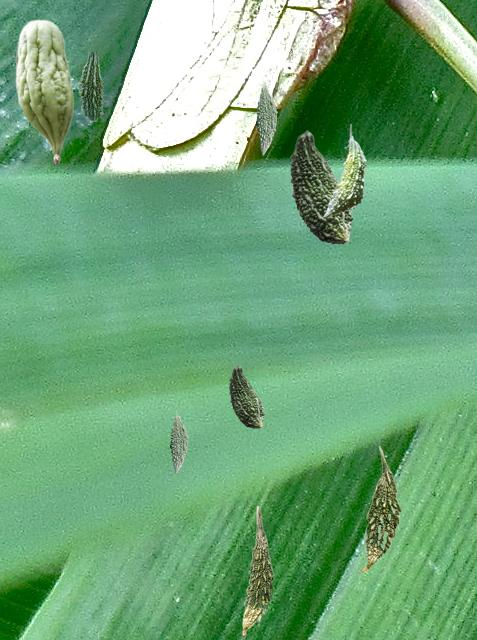ampalaya: (15, 19, 73, 164), (290, 130, 352, 243), (359, 445, 401, 571), (322, 124, 366, 218), (242, 506, 273, 638), (229, 365, 263, 427), (79, 52, 102, 120), (256, 80, 276, 154), (170, 410, 187, 472)
